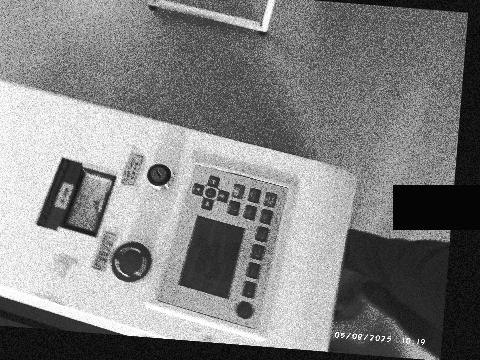Amp_Meter: (66, 168, 114, 234)
Display: (180, 216, 244, 298)
Down_button: (217, 190, 229, 202)
Emergency_Stop: (111, 242, 151, 282)
Enter_button: (232, 184, 245, 199)
Esc_button: (228, 200, 240, 216)
File_button: (260, 209, 273, 225)
Frame_button: (248, 188, 261, 203)
Left_button: (201, 198, 214, 210)
Max-Power_button: (256, 227, 268, 242)
Min-Power_button: (251, 244, 264, 260)
Origin_button: (244, 205, 256, 220)
Power_switch: (147, 165, 171, 189)
Pulse_button: (243, 281, 255, 298)
Reset_button: (237, 302, 252, 319)
Right_button: (208, 176, 220, 188)
Speed_button: (247, 263, 260, 279)
Start-Pause_button: (264, 192, 277, 207)
Up_button: (192, 183, 204, 195)
Z_U_button: (205, 188, 216, 198)
